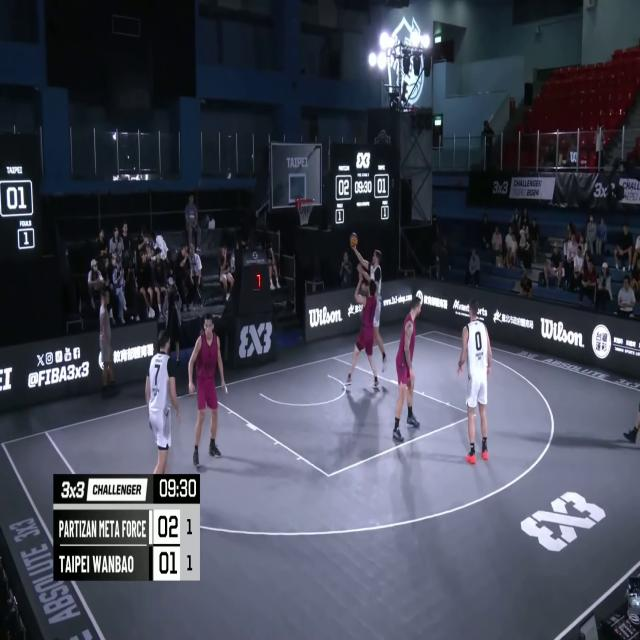ball: (348, 230, 357, 249)
hoop: (295, 195, 315, 228)
player: (458, 298, 497, 464), (348, 228, 393, 370), (188, 312, 227, 468), (147, 330, 180, 474), (346, 273, 382, 395), (393, 293, 420, 445)
